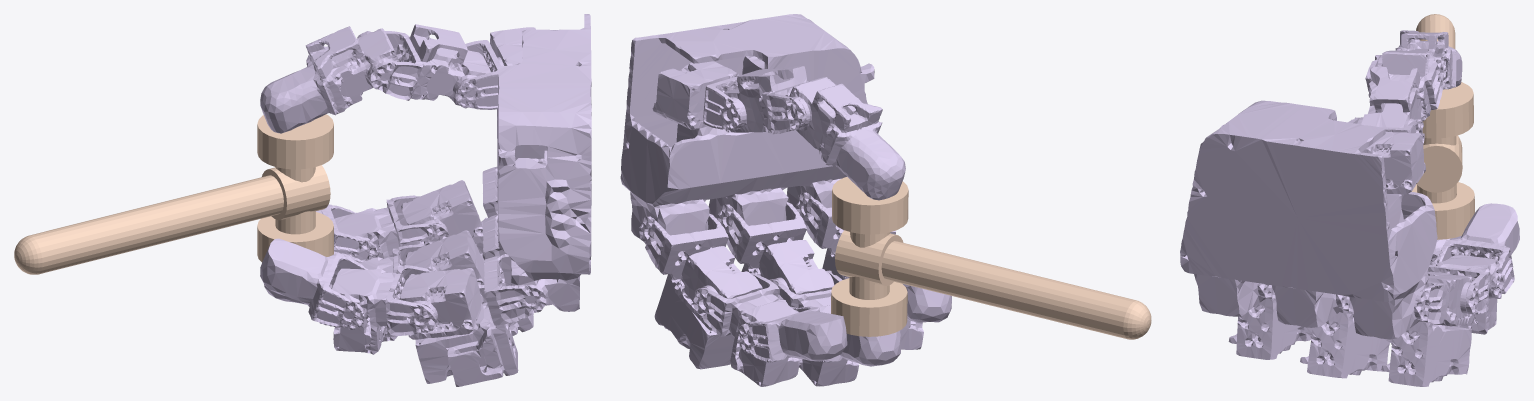
File: e674e03b8e588f-closed.glb
3 views of the same model, side by side, from view 1: azimuth 30°, elevation 25°; view 2: azimuth 150°, elevation 25°; view 3: azimuth 270°, elevation 25° (orthographic).
Visible parts, largest first — view 1: LEAP_hand, world; view 2: LEAP_hand, world; view 3: LEAP_hand, world.
Part boxes in pixels (x1,y1,x2,y2): LEAP_hand: (260,14,591,386); world: (14,114,333,274); LEAP_hand: (620,14,951,386); world: (831,177,1151,339); LEAP_hand: (1180,30,1519,386); world: (1412,14,1474,239).
Bounding box in the file's own units: 0.3157 × 0.1689 × 0.1706.
